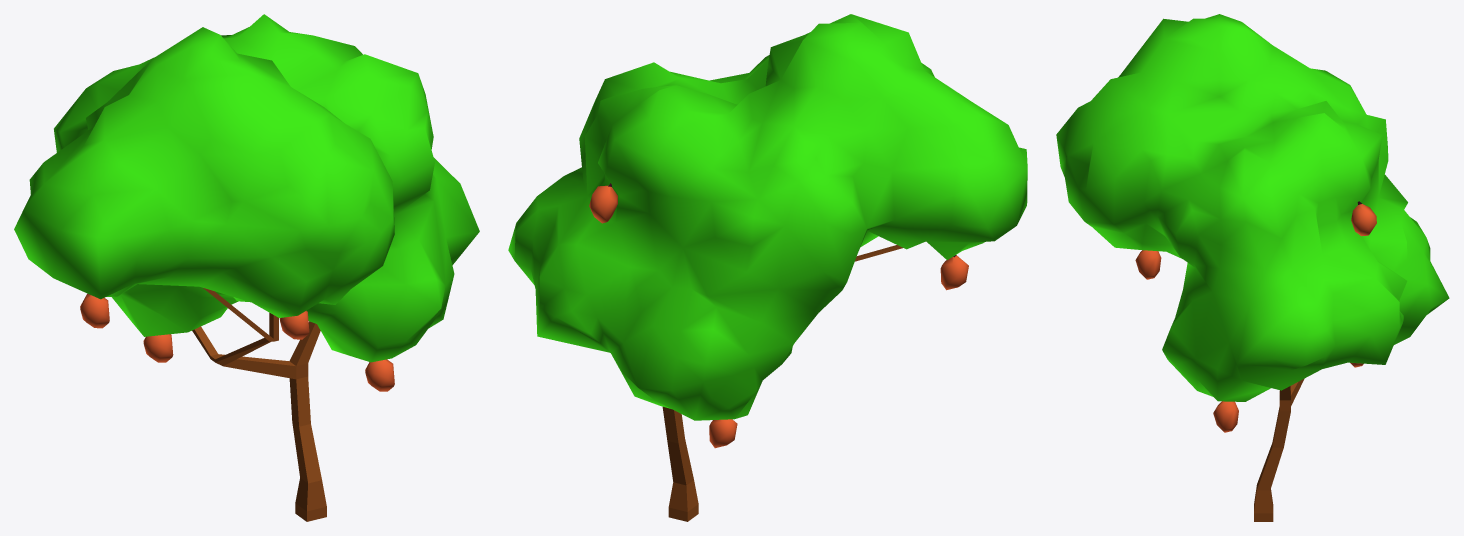
The model's file is SM_MangoTree_001_LOD3.fbx.
3 renders of one model, left to right at view 1: azimuth 30°, elevation 25°; view 2: azimuth 150°, elevation 25°; view 3: azimuth 270°, elevation 25°, orthographic. The views are drawn at different scales.
Parts seen in each view (by area): view 1: MangoTree_01; view 2: MangoTree_01; view 3: MangoTree_01.
Boxes of the visible parts, x1=… form: MangoTree_01: x1=14, y1=14, x2=479, y2=521; MangoTree_01: x1=508, y1=14, x2=1027, y2=521; MangoTree_01: x1=1056, y1=14, x2=1449, y2=521.
Size of the model in its own units: 261 by 278 by 224.
